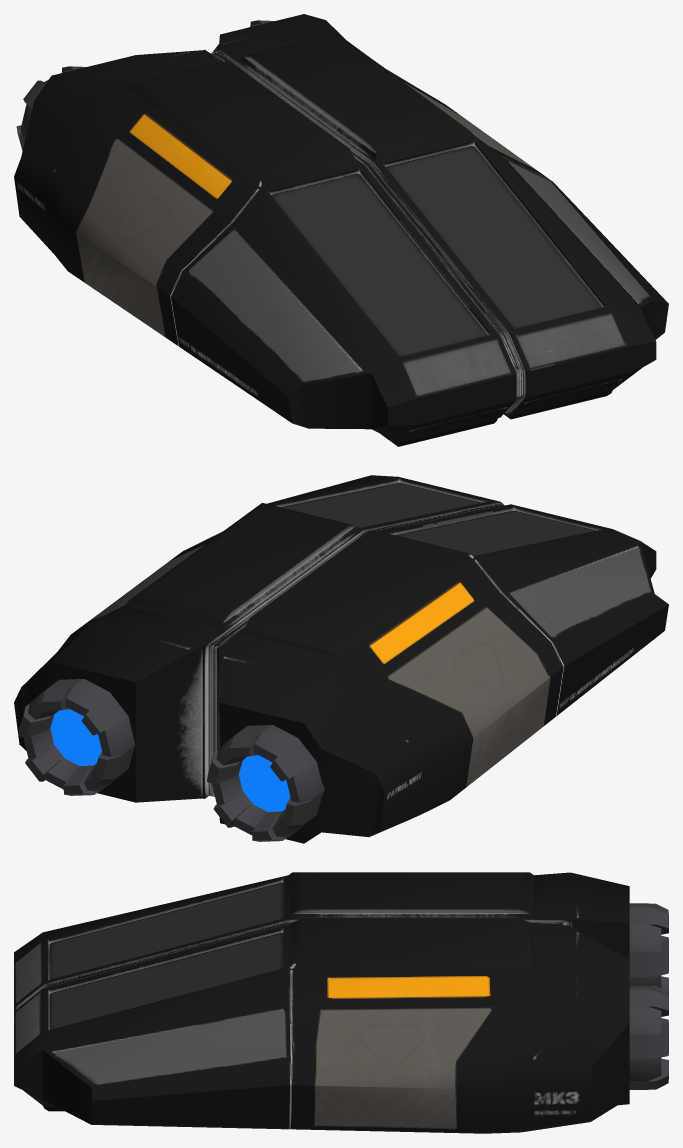
File: SM_CyberCar_JFG_GLOW.fbx
3 renders of one model, top to bottom at view 1: azimuth 30°, elevation 25°; view 2: azimuth 150°, elevation 25°; view 3: azimuth 270°, elevation 25°, orthographic. The views are drawn at different scales.
Parts seen in each view (by area): view 1: SM_CyberCar_Base_JFG; view 2: SM_CyberCar_Base_JFG; view 3: SM_CyberCar_Base_JFG.
Part boxes in pixels (box(x1,y1,x2,y2)): SM_CyberCar_Base_JFG: box(14, 14, 668, 446); SM_CyberCar_Base_JFG: box(14, 475, 668, 843); SM_CyberCar_Base_JFG: box(14, 872, 668, 1133).
Bounding box in the file's own units: 335 × 158 × 533.
